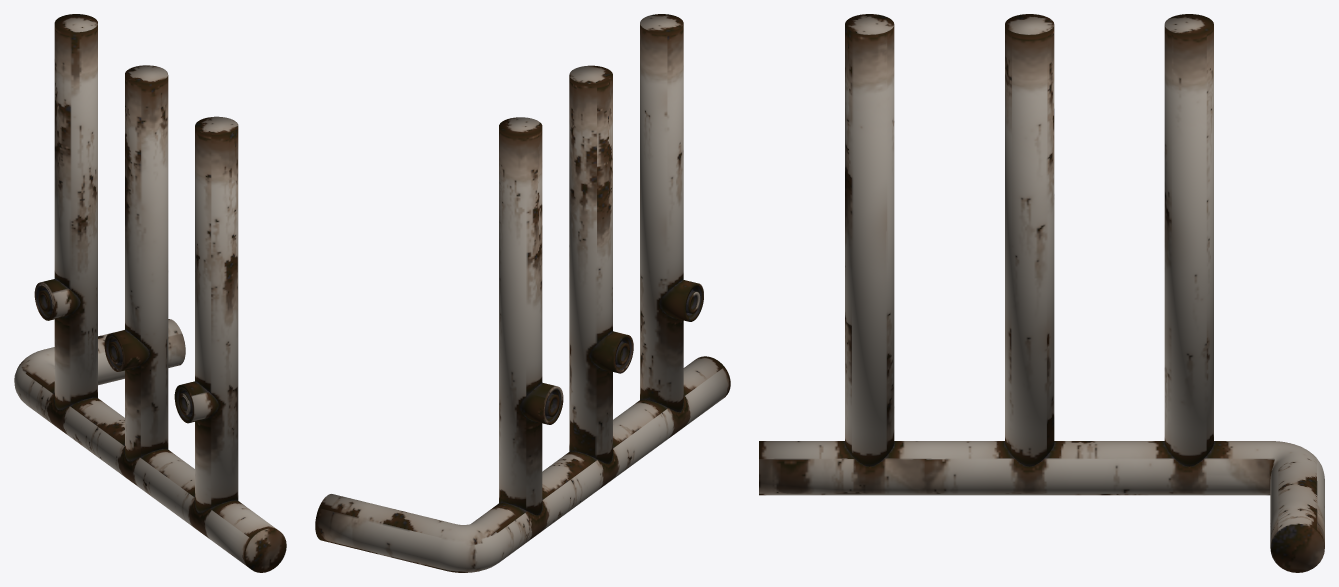
File: Pipe.obj
3 views of the same model, side by side, from view 1: azimuth 30°, elevation 25°; view 2: azimuth 150°, elevation 25°; view 3: azimuth 270°, elevation 25° (orthographic). The views are drawn at different scales.
Visible parts, largest first — view 1: Cylinder.018; view 2: Cylinder.018; view 3: Cylinder.018.
Boxes of the visible parts, x1=… form: Cylinder.018: x1=14, y1=14, x2=286, y2=572; Cylinder.018: x1=315, y1=14, x2=730, y2=572; Cylinder.018: x1=759, y1=14, x2=1324, y2=572.
Size of the model in its own units: 3.09 by 6.83 by 7.48.
Materials: 1 (1 with a texture image).
